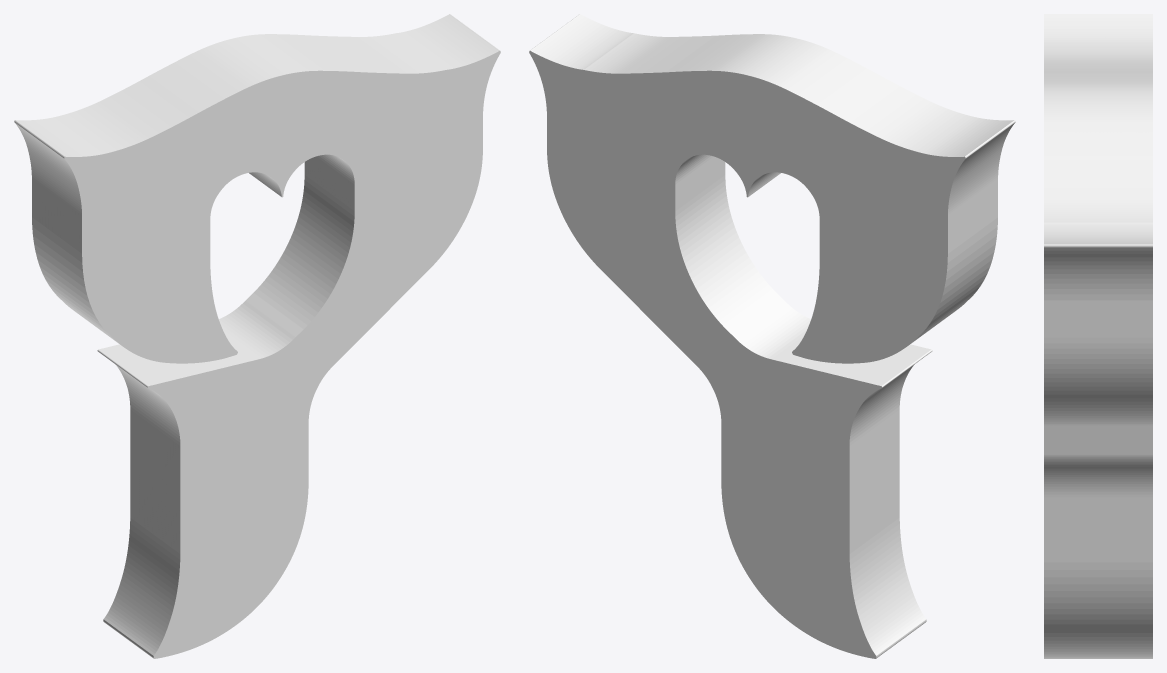
The model's file is titleText_a.obj.
The picture shows the model from 3 angles, left to right: view 1: azimuth 30°, elevation 25°; view 2: azimuth 150°, elevation 25°; view 3: azimuth 270°, elevation 25°; orthographic projection. The views are drawn at different scales.
Visible parts, largest first — view 1: titleText_a; view 2: titleText_a; view 3: titleText_a.
Part boxes in pixels (x1,y1,x2,y2): titleText_a: (14, 14, 500, 658); titleText_a: (529, 14, 1015, 658); titleText_a: (1044, 14, 1152, 658).
Size of the model in its own units: 0.6194 by 0.75 by 0.1233.
Materials: 1 (1 with a texture image).
